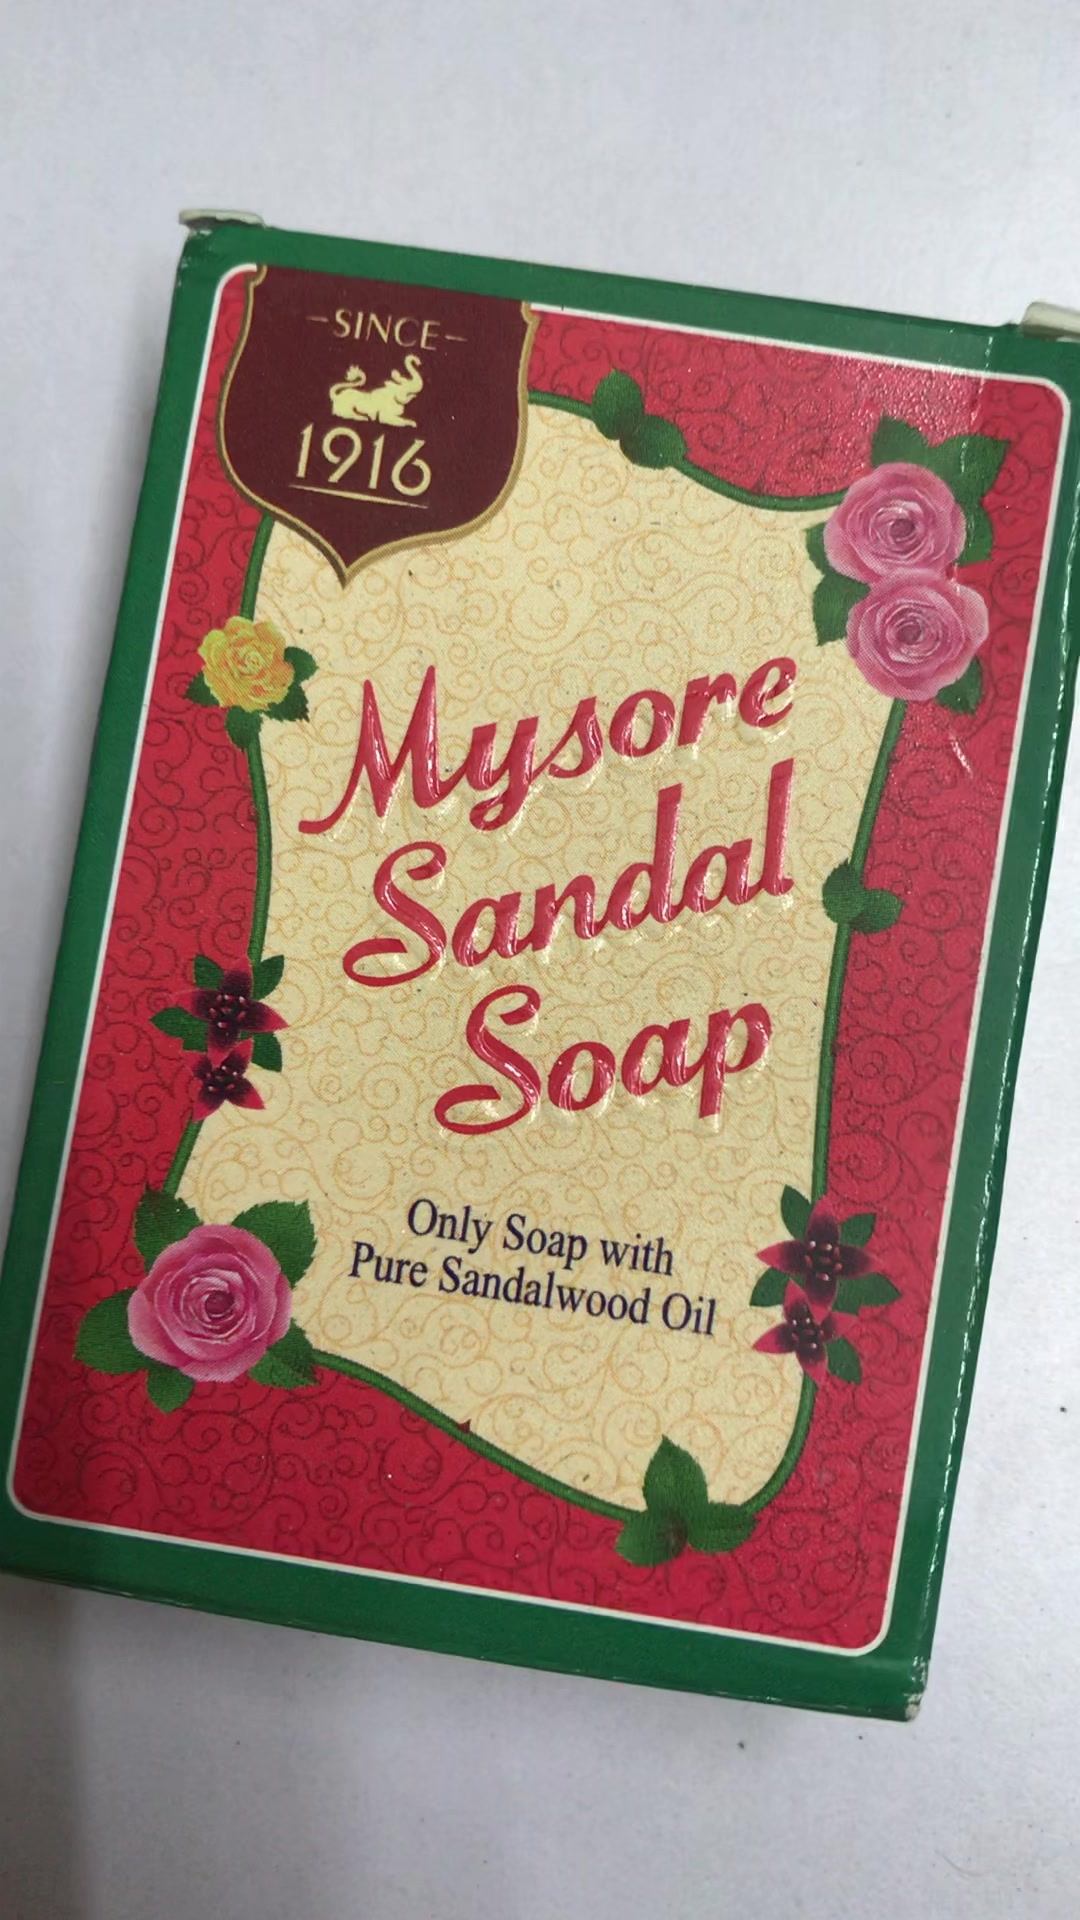mysore sandal soap: (9, 222, 1076, 1720)
